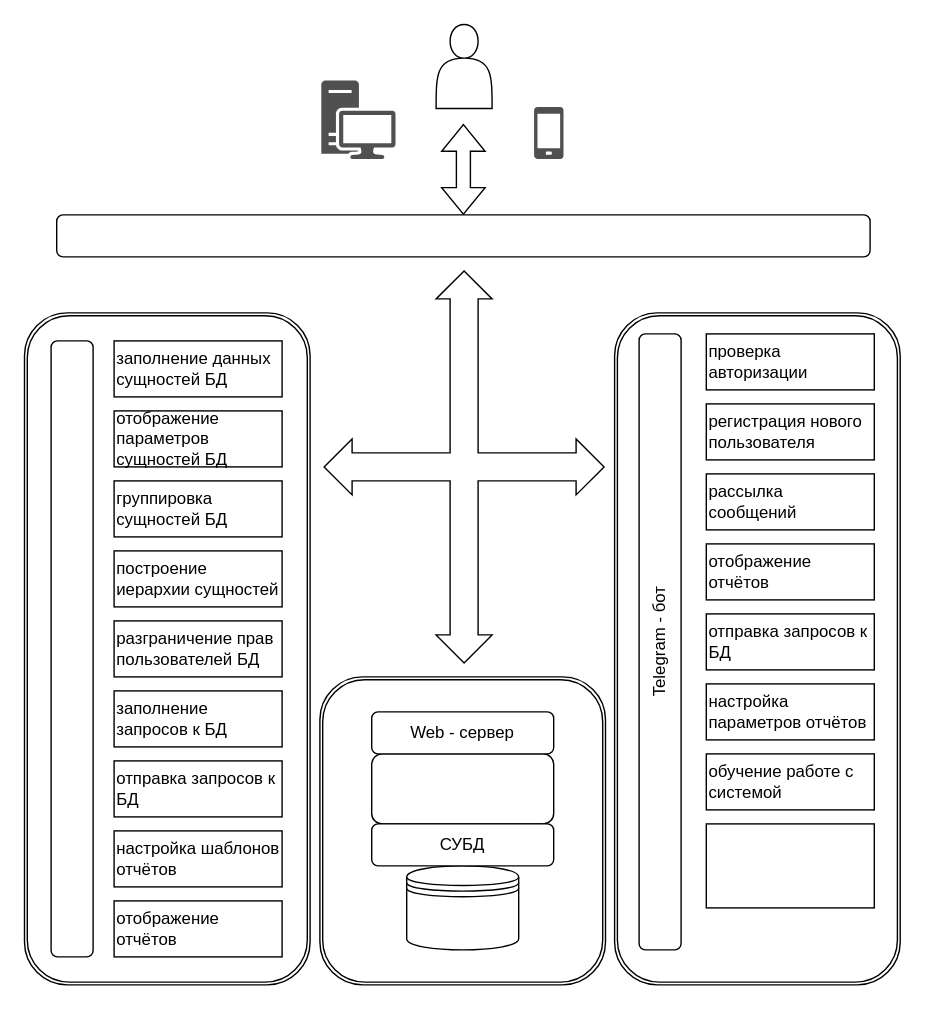
This 925x1009 diagram has some shape labels left out. Each missing label, with the centre of its shape:
DB: the point at 462,907
Web - приложение: the point at 71,648
Авторизация: the point at 462,235
получение и обработка оперативной информации: the point at 789,865
Сервер приложений: the point at 462,788
